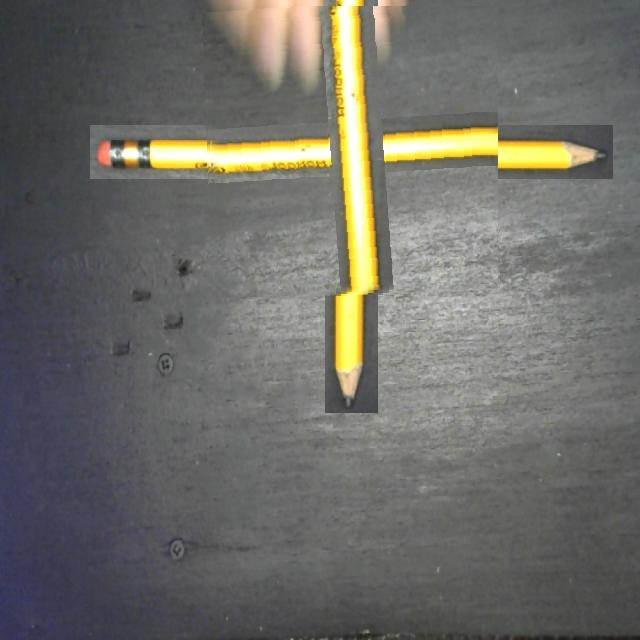biodegradable: (205, 6, 498, 298)
